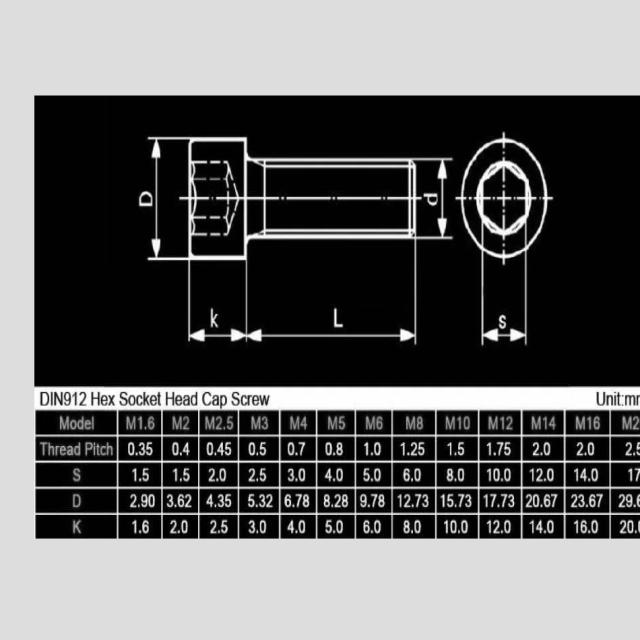marking_line: (245, 262, 418, 347), (146, 132, 188, 264), (188, 261, 248, 344), (480, 259, 528, 346), (418, 156, 453, 242)
numeric: (169, 518, 178, 535), (492, 518, 501, 535), (295, 491, 303, 509), (591, 517, 600, 533), (618, 519, 627, 535), (547, 466, 555, 483), (185, 494, 194, 509), (302, 493, 311, 508), (336, 441, 345, 456), (335, 519, 344, 534), (548, 415, 557, 430), (617, 493, 626, 508), (210, 518, 218, 534), (248, 467, 256, 483), (301, 415, 309, 431), (374, 440, 382, 456), (374, 467, 382, 483), (359, 493, 367, 509), (403, 467, 411, 483), (416, 416, 424, 432), (504, 519, 512, 535), (570, 492, 578, 508), (588, 493, 596, 509), (632, 416, 640, 432), (287, 518, 294, 536), (414, 520, 423, 534), (421, 493, 430, 507), (148, 415, 156, 430), (181, 519, 189, 534), (208, 467, 216, 482), (207, 493, 215, 508), (266, 494, 274, 509), (298, 519, 306, 534), (336, 467, 344, 482), (323, 493, 331, 508), (463, 415, 471, 430), (500, 493, 508, 508), (504, 467, 512, 482), (532, 493, 540, 508), (576, 442, 584, 457), (596, 493, 604, 508), (627, 519, 635, 534), (130, 467, 137, 484), (142, 466, 149, 483), (149, 492, 156, 509), (171, 440, 178, 457), (260, 440, 267, 457), (339, 415, 346, 432), (325, 517, 332, 534), (496, 440, 503, 457), (592, 466, 599, 483), (578, 492, 585, 509), (64, 390, 71, 406), (79, 392, 87, 406), (139, 441, 146, 457), (127, 442, 135, 456), (129, 492, 136, 508), (183, 468, 191, 482), (167, 492, 174, 508), (183, 416, 191, 430), (218, 468, 226, 482), (221, 519, 229, 533), (226, 493, 233, 509), (248, 492, 255, 508), (259, 520, 267, 534), (298, 440, 305, 456), (299, 466, 306, 482), (363, 467, 370, 483), (378, 494, 386, 508), (447, 468, 454, 484), (461, 520, 469, 534), (447, 492, 454, 508), (457, 494, 465, 508), (506, 416, 514, 430), (489, 493, 496, 509), (532, 440, 539, 456), (525, 493, 532, 509), (536, 518, 543, 534), (625, 442, 633, 456), (132, 519, 138, 537), (146, 441, 153, 456), (142, 519, 149, 534), (141, 493, 148, 508), (206, 441, 213, 456), (225, 441, 232, 456), (249, 441, 256, 456), (288, 441, 295, 456), (288, 467, 295, 482), (325, 468, 332, 483), (363, 519, 370, 534), (375, 518, 382, 533), (371, 493, 378, 508), (404, 519, 411, 534), (404, 494, 411, 509), (414, 467, 421, 482), (458, 441, 465, 456), (494, 467, 501, 482), (504, 441, 511, 456), (544, 442, 551, 457), (551, 493, 558, 508), (543, 493, 550, 508), (588, 442, 595, 457), (325, 442, 333, 455), (457, 468, 465, 481), (183, 442, 190, 456), (216, 416, 223, 430), (217, 493, 224, 507), (248, 520, 255, 534), (285, 494, 292, 508), (342, 493, 349, 507), (419, 441, 426, 455), (450, 520, 457, 534), (508, 494, 515, 508), (536, 468, 543, 482), (581, 468, 588, 482), (580, 519, 587, 533), (626, 494, 633, 508), (172, 467, 178, 483), (217, 441, 223, 457), (227, 414, 233, 430), (262, 414, 268, 430), (259, 492, 265, 508), (377, 414, 383, 430), (415, 492, 421, 508), (486, 466, 492, 482), (573, 467, 579, 483), (260, 468, 267, 481), (334, 494, 341, 507), (465, 494, 472, 507), (401, 440, 406, 458), (411, 441, 417, 456), (443, 519, 449, 534), (486, 441, 492, 456), (547, 519, 553, 534), (594, 415, 600, 430), (634, 467, 640, 482), (178, 494, 184, 508), (440, 494, 446, 508), (529, 468, 535, 482), (138, 415, 143, 431), (483, 492, 488, 508), (543, 415, 548, 431), (574, 520, 579, 536), (364, 442, 369, 457), (448, 442, 453, 457), (500, 415, 505, 430), (487, 519, 492, 534), (530, 519, 535, 534), (587, 415, 592, 430), (72, 392, 77, 406), (457, 416, 462, 430), (628, 468, 633, 482), (398, 493, 402, 509), (636, 441, 640, 456), (636, 494, 640, 507), (636, 519, 640, 532)
